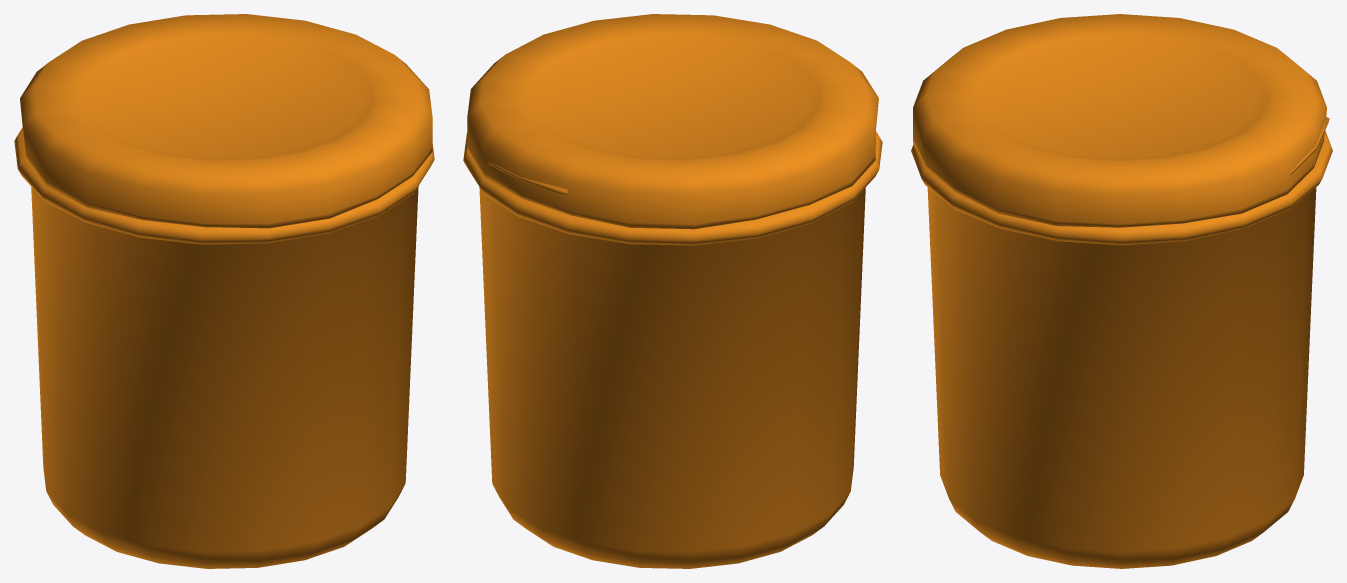
Rendered from marmeladenglas3_lowpoly.fbx.
3 renders of one model, left to right at view 1: azimuth 30°, elevation 25°; view 2: azimuth 150°, elevation 25°; view 3: azimuth 270°, elevation 25°, orthographic.
Visible parts, largest first — view 1: Cylinder.004; view 2: Cylinder.004; view 3: Cylinder.004.
Boxes of the visible parts, bbox=[...] form: Cylinder.004: bbox=[14, 14, 434, 568]; Cylinder.004: bbox=[463, 14, 882, 568]; Cylinder.004: bbox=[911, 14, 1332, 568].
Size of the model in its own units: 25.72 by 27.48 by 25.72.
